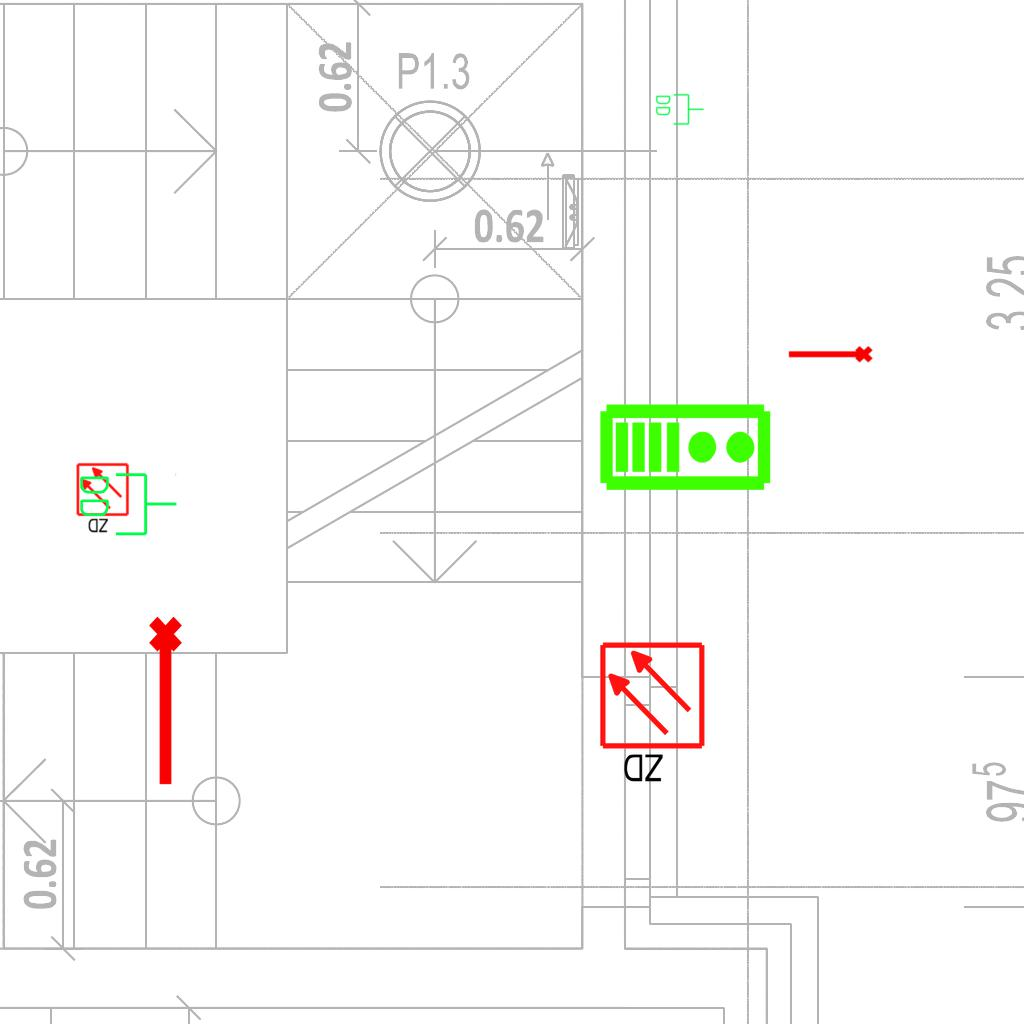ASR_Ansaugoeffnung: (145, 614, 191, 790), (786, 344, 874, 367)
Datenanschluss_zweifach: (76, 469, 179, 538), (654, 92, 705, 126)
Gegensprechanlage_mit_Video: (598, 398, 774, 493)
ZD_Melder_in_Zwischendecke_mit_Revisionsoeffnung_mind_40_x_40_cm: (597, 640, 711, 789), (75, 462, 132, 536)
